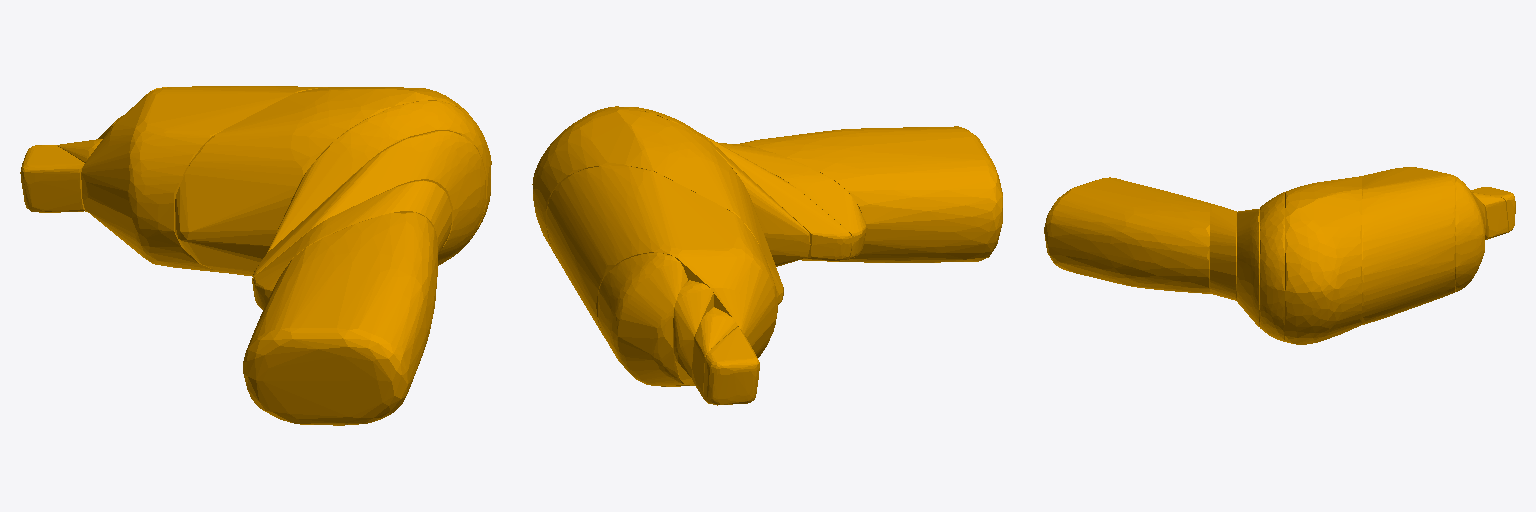
robot.urdf — 072-b_toy_airplane:
<?xml version="1.0" encoding="UTF-8"?>
<robot name="072-b_toy_airplane">
	<link name="base">
		<collision>
			<geometry>
				<mesh filename="..\vhacd\072-b_toy_airplane_vhacd.obj" scale="1.0 1.0 1.0"/>
			</geometry>
			<origin xyz="0 0 0"/>
			<contact_coefficients mu="0.24" />
		</collision>
		<visual>
			<geometry>
				<mesh filename="..\vhacd\072-b_toy_airplane_vhacd.obj" scale="1.0 1.0 1.0"/>
			</geometry>
			<origin xyz="0 0 0"/>
		</visual>
		<inertial>
			<mass value="0"/>
			<inertia ixx="0.0" ixy="-0.0" ixz="-0.0" iyy="0.0" iyz="-0.0" izz="0.0" />
			<origin xyz="-0.04948007544102654 0.01112174753968616 0.025398688368386258"/>
		</inertial>
	</link>
</robot>

--- Facts derived from the render (not from the file) ---
Views: 3 orthographic renders of the robot side by side, from view 1: azimuth 30°, elevation 25°; view 2: azimuth 150°, elevation 25°; view 3: azimuth 270°, elevation 25°.
Model 072-b_toy_airplane with 1 links and 0 joints (none), rooted at base, posed every joint at zero.
Visible links, largest first — view 1: base; view 2: base; view 3: base.
Link boxes in pixels (left/top/right/bottom): base: left=20, top=86, right=491, bottom=425; base: left=532, top=106, right=1002, bottom=405; base: left=1044, top=167, right=1515, bottom=344.
Bounding box of the posed robot: 0.1208 × 0.182 × 0.0595 m (x, y, z).
1 mesh visuals loaded from 1 distinct referenced files (1 OBJ).